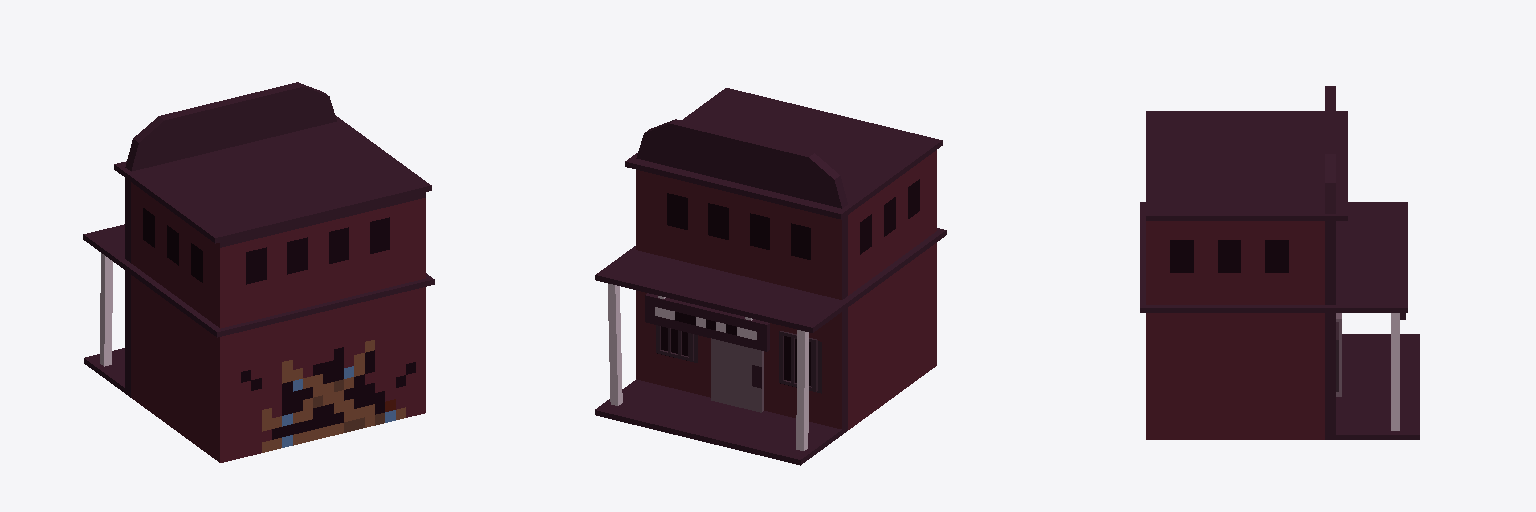
The picture shows the model from 3 angles: view 1: azimuth 30°, elevation 25°; view 2: azimuth 150°, elevation 25°; view 3: azimuth 270°, elevation 25°; orthographic projection.
Parts seen in each view (by area): view 1: building, pillar_1; view 2: building, sign_panel, front door, pillar_2, pillar_1, bar_window_2, bar_window_1; view 3: building, pillar_2.
Part boxes in pixels (left/top/right/bottom): building: left=83, top=82, right=434, bottom=462; pillar_1: left=100, top=253, right=112, bottom=366; building: left=595, top=88, right=946, bottom=465; sign_panel: left=645, top=293, right=769, bottom=351; front door: left=711, top=338, right=763, bottom=412; pillar_2: left=608, top=284, right=622, bottom=405; pillar_1: left=796, top=330, right=808, bottom=450; bar_window_2: left=779, top=331, right=817, bottom=391; bar_window_1: left=656, top=325, right=693, bottom=361; building: left=1140, top=86, right=1419, bottom=439; pillar_2: left=1391, top=313, right=1399, bottom=430.
Size of the model in its own units: 1.32 by 1.58 by 1.47.
1 materials, 1 textured.